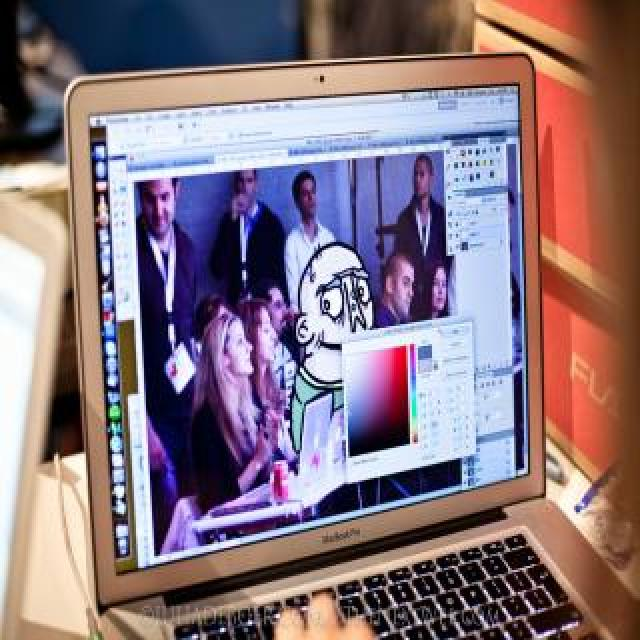laptop_computer: (62, 56, 636, 640)
